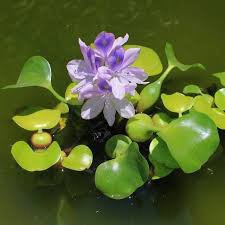water_hyacinth: (1, 30, 225, 200)
